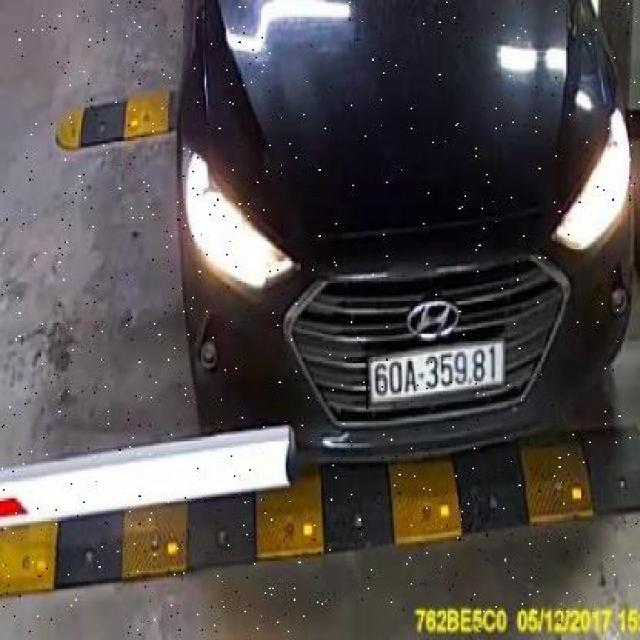number_plate: (366, 334, 508, 409)
